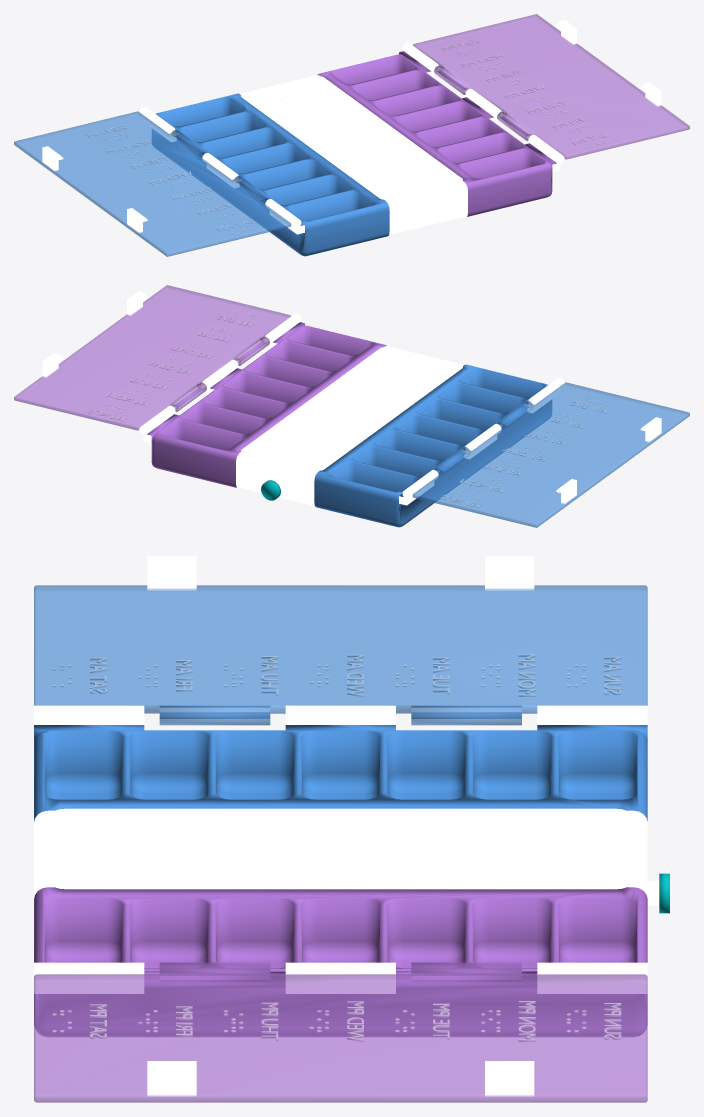
The model's file is adhera-open.glb.
3 renders of one model, top to bottom at view 1: azimuth 30°, elevation 25°; view 2: azimuth 150°, elevation 25°; view 3: azimuth 270°, elevation 25°, orthographic. The views are drawn at different scales.
Parts seen in each view (by area): view 1: Base_Body, Flap_Right, Flap_Left, Latch_Slider, Labels_Left, Labels_Right, Catches_Left, Catches_Right; view 2: Base_Body, Flap_Right, Flap_Left, Latch_Slider, Labels_Left, Labels_Right, Catches_Left, Catches_Right; view 3: Base_Body, Flap_Left, Flap_Right, Latch_Slider, Labels_Left, Labels_Right, Catches_Right, Catches_Left.
Boxes of the visible parts, x1,y1,x2,y2 form: Base_Body: (139,42,564,256); Flap_Right: (412,14,689,159); Flap_Left: (14,111,291,256); Latch_Slider: (264,100,420,199); Labels_Left: (86,125,257,235); Labels_Right: (441,38,611,148); Catches_Left: (42,146,147,233); Catches_Right: (556,20,661,106); Base_Body: (139,313,564,527); Flap_Right: (14,285,291,430); Flap_Left: (412,382,689,527); Latch_Slider: (273,373,426,490); Labels_Left: (441,396,609,507); Labels_Right: (87,310,255,421); Catches_Left: (556,417,661,504); Catches_Right: (42,291,147,377); Base_Body: (34,705,647,1036); Flap_Left: (34,585,647,725); Flap_Right: (34,962,647,1102); Latch_Slider: (107,840,659,905); Labels_Left: (52,654,621,696); Labels_Right: (52,1001,621,1041); Catches_Right: (147,1061,534,1096); Catches_Left: (147,556,534,590).
Size of the model in its own units: 394 by 38.6 by 207.
